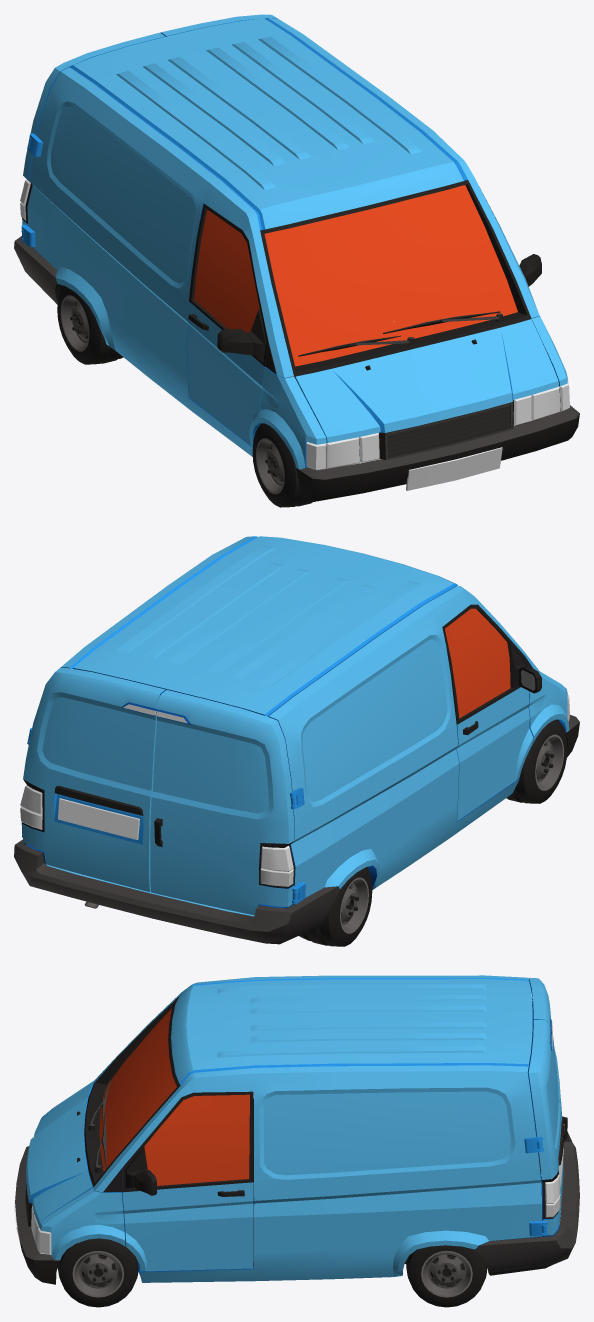
The model's file is Sketchfab_2022_12_01_14_06_37.fbx.
3 renders of one model, top to bottom at view 1: azimuth 30°, elevation 25°; view 2: azimuth 150°, elevation 25°; view 3: azimuth 270°, elevation 25°, orthographic. The views are drawn at different scales.
Parts seen in each view (by area): view 1: Body, Bonet, Doors_FR, Bumper_F, Grill_F, Fender_FR, Wheel_FR, Wheel_RR, Doors_RR, Headlights_FR, Bumper_R, Headlights_FL (+3 smaller); view 2: Body, Doors_RR, Doors_RL, Doors_FR, Bumper_R, Wheel_FR, Wheel_RR, Fender_FR, Lights_RR, Lights_RL; view 3: Body, Doors_FL, Bonet, Bumper_R, Wheel_FL, Doors_RL, Wheel_RL, Fender_FL, Bumper_F, Doors_RR, Lights_RL, WindshieldWipers.
Boxes of the visible parts, x1,y1,x2,y2 form: Body: [21, 18, 539, 461]; Bonet: [295, 319, 558, 442]; Doors_FR: [186, 204, 268, 446]; Bumper_F: [296, 405, 579, 501]; Grill_F: [379, 401, 513, 459]; Fender_FR: [256, 367, 326, 469]; Wheel_FR: [252, 422, 326, 507]; Wheel_RR: [57, 285, 123, 364]; Doors_RR: [21, 32, 165, 238]; Headlights_FR: [326, 433, 379, 468]; Bumper_R: [14, 236, 62, 304]; Headlights_FL: [513, 386, 560, 426]; Body: [21, 536, 539, 916]; Doors_RR: [150, 690, 298, 915]; Doors_RL: [22, 667, 165, 892]; Doors_FR: [442, 604, 541, 821]; Bumper_R: [14, 839, 339, 944]; Wheel_FR: [506, 719, 567, 803]; Wheel_RR: [299, 867, 372, 946]; Fender_FR: [528, 671, 569, 743]; Lights_RR: [259, 841, 294, 888]; Lights_RL: [20, 779, 44, 832]; Body: [84, 975, 561, 1282]; Doors_FL: [122, 1091, 253, 1271]; Bonet: [26, 1084, 92, 1225]; Bumper_R: [476, 1125, 579, 1275]; Wheel_FL: [58, 1235, 138, 1307]; Doors_RL: [528, 1019, 563, 1235]; Wheel_RL: [406, 1245, 487, 1307]; Fender_FL: [39, 1187, 125, 1260]; Bumper_F: [14, 1146, 60, 1284]; Doors_RR: [528, 977, 567, 1141]; Lights_RL: [542, 1170, 560, 1219]; WindshieldWipers: [88, 1080, 110, 1173].
Size of the model in its own units: 1.38 by 1.07 by 2.34.
